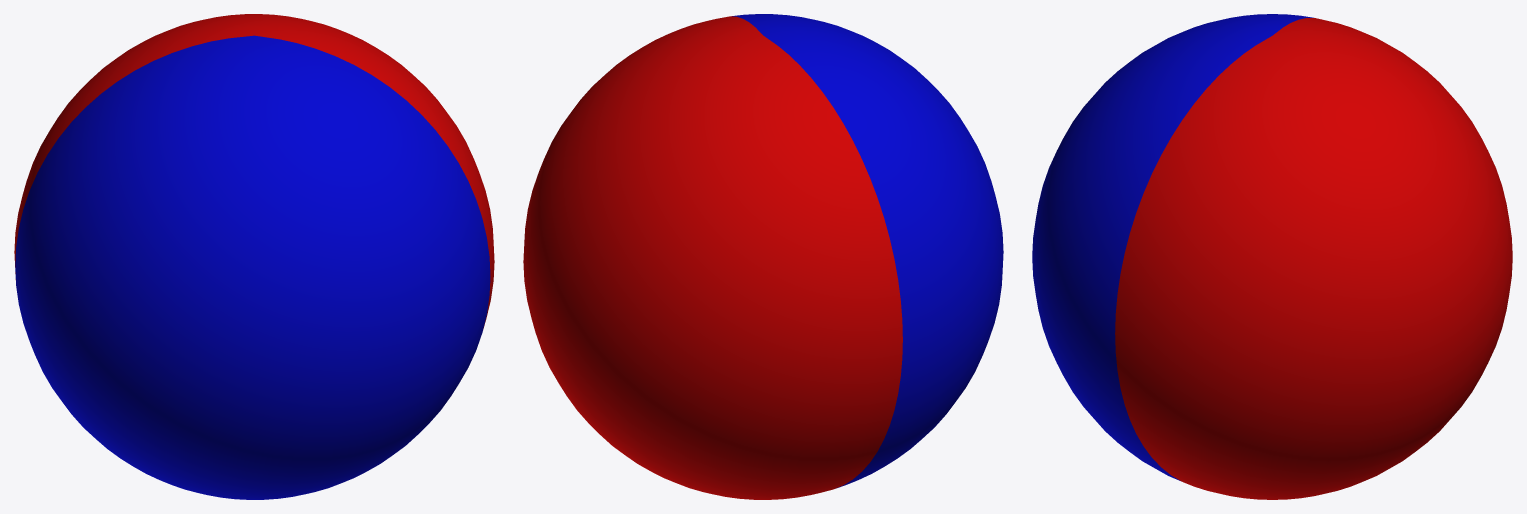
The model's file is sphere-smooth.obj.
3 views of the same model, side by side, from view 1: azimuth 30°, elevation 25°; view 2: azimuth 150°, elevation 25°; view 3: azimuth 270°, elevation 25° (orthographic).
Visible parts, largest first — view 1: Sphere_Sphere.002_Material2, Sphere_Sphere.002_Material1; view 2: Sphere_Sphere.002_Material1, Sphere_Sphere.002_Material2; view 3: Sphere_Sphere.002_Material1, Sphere_Sphere.002_Material2.
Boxes of the visible parts, x1,y1,x2,y2 form: Sphere_Sphere.002_Material2: [15, 35, 490, 499]; Sphere_Sphere.002_Material1: [14, 14, 494, 328]; Sphere_Sphere.002_Material1: [523, 16, 902, 499]; Sphere_Sphere.002_Material2: [732, 14, 1003, 488]; Sphere_Sphere.002_Material1: [1115, 18, 1512, 499]; Sphere_Sphere.002_Material2: [1032, 14, 1313, 480].
Size of the model in its own units: 1.96 by 1.99 by 1.96.
